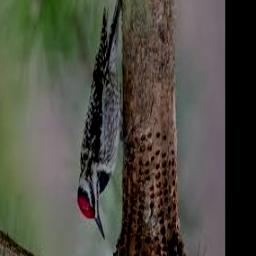Woodpecker: (78, 0, 124, 242)
